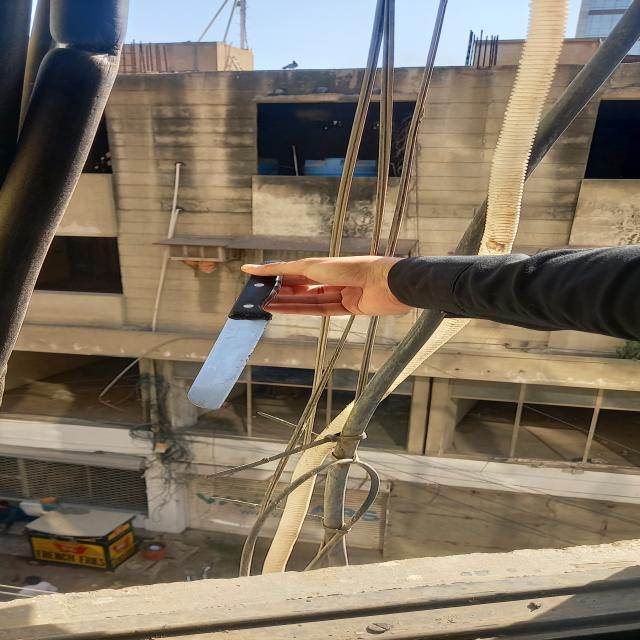weapon: (190, 250, 294, 417)
